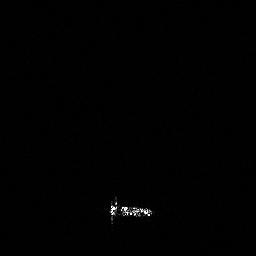ship: (107, 196, 154, 225)
